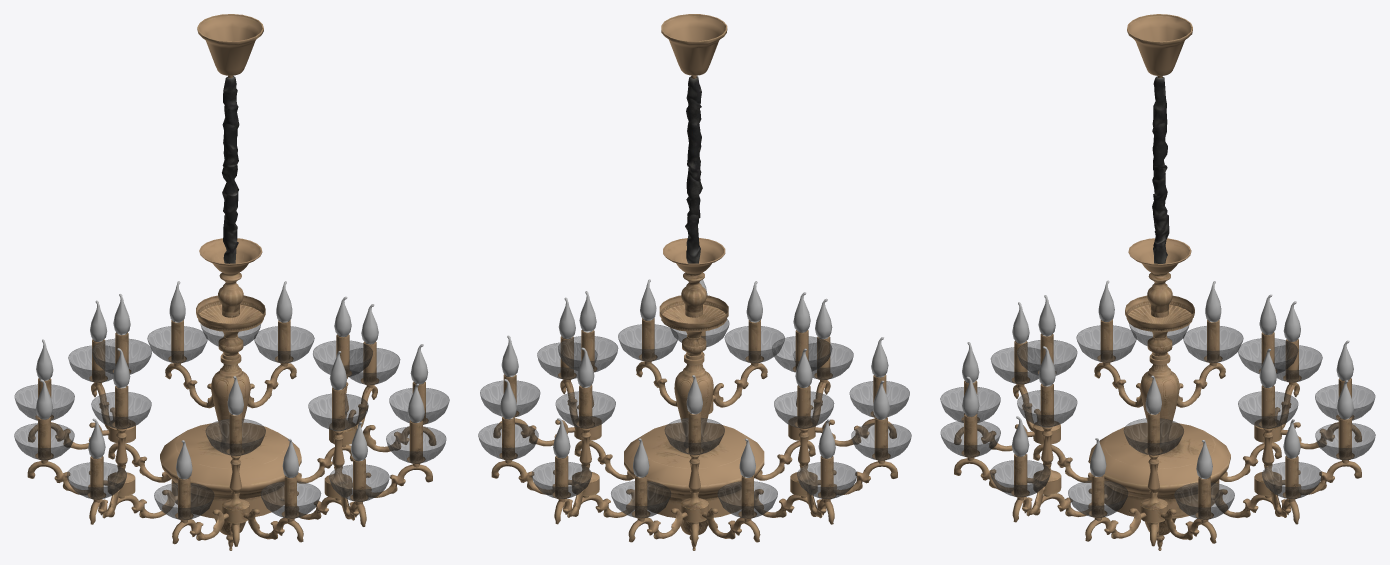
File: chandelier_03.glb
3 views of the same model, side by side, from view 1: azimuth 30°, elevation 25°; view 2: azimuth 150°, elevation 25°; view 3: azimuth 270°, elevation 25° (orthographic).
Parts seen in each view (by area): view 1: Chandelier_03; view 2: Chandelier_03; view 3: Chandelier_03.
Boxes of the visible parts, x1,y1,x2,y2 form: Chandelier_03: [14, 14, 449, 550]; Chandelier_03: [478, 14, 911, 550]; Chandelier_03: [940, 14, 1375, 550].
Size of the model in its own units: 0.7804 by 1.04 by 0.7855.
2 materials, 2 textured.
